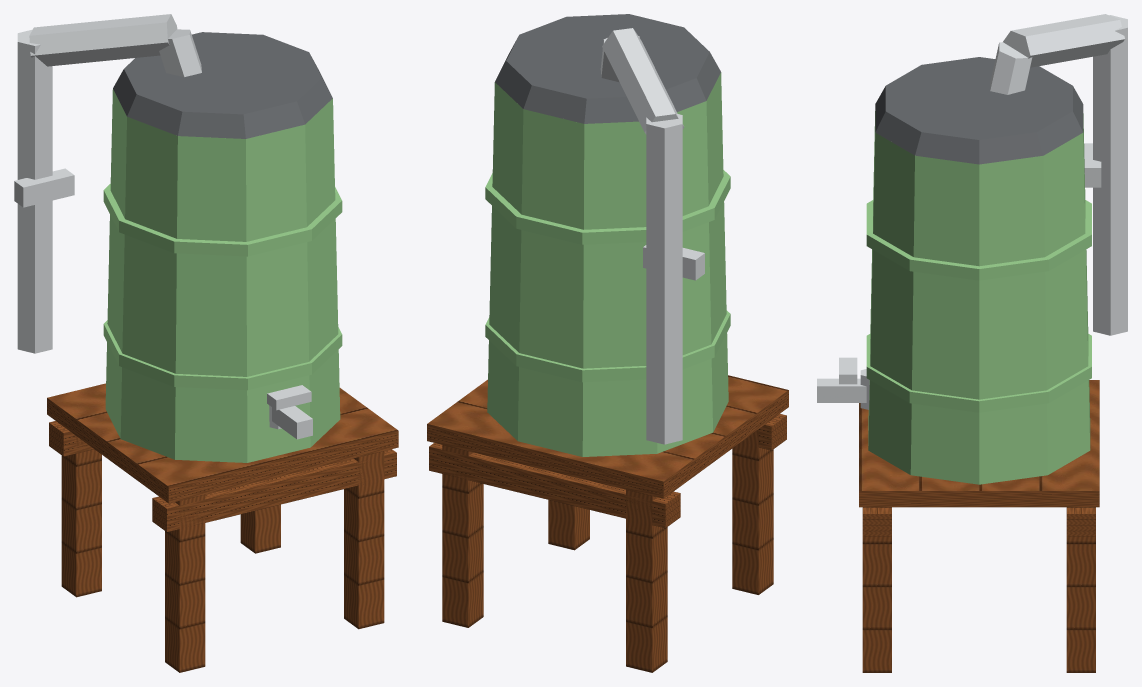
File: allotments-and-community-garden-water-butt-on-stand-3c5ee784__35150.glb
3 renders of one model, left to right at view 1: azimuth 30°, elevation 25°; view 2: azimuth 150°, elevation 25°; view 3: azimuth 270°, elevation 25°, orthographic. The views are drawn at different scales.
Visible parts, largest first — view 1: water-butt-on-stand-leaf, water-butt-on-stand-timber, water-butt-on-stand-galv, water-butt-on-stand-charcoal; view 2: water-butt-on-stand-leaf, water-butt-on-stand-timber, water-butt-on-stand-galv, water-butt-on-stand-charcoal; view 3: water-butt-on-stand-leaf, water-butt-on-stand-timber, water-butt-on-stand-galv, water-butt-on-stand-charcoal.
Boxes of the visible parts, x1,y1,x2,y2 form: water-butt-on-stand-leaf: [103, 89, 342, 462]; water-butt-on-stand-timber: [47, 383, 398, 672]; water-butt-on-stand-galv: [14, 14, 312, 439]; water-butt-on-stand-charcoal: [113, 32, 332, 138]; water-butt-on-stand-leaf: [485, 72, 730, 456]; water-butt-on-stand-timber: [427, 375, 788, 672]; water-butt-on-stand-galv: [600, 28, 704, 444]; water-butt-on-stand-charcoal: [495, 14, 720, 123]; water-butt-on-stand-leaf: [866, 111, 1091, 484]; water-butt-on-stand-timber: [859, 380, 1099, 672]; water-butt-on-stand-galv: [817, 14, 1127, 409]; water-butt-on-stand-charcoal: [875, 57, 1083, 164].
Size of the model in its own units: 0.82 by 1.74 by 0.8527.
Materials: 4 (1 with a texture image).
